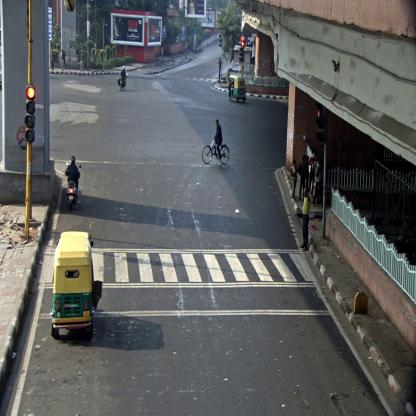motorcycle: (202, 117, 231, 166), (64, 154, 80, 210), (119, 67, 127, 92)
